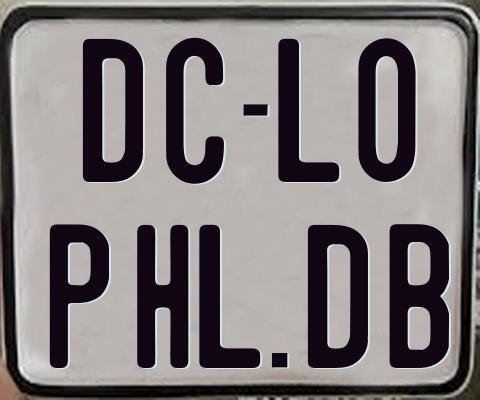0: (358, 35, 420, 183)
B: (387, 223, 451, 373)
C: (163, 36, 227, 187)
D: (80, 37, 145, 185), (308, 225, 374, 369)
H: (136, 223, 192, 370)
L: (277, 38, 341, 187), (196, 223, 257, 367)
P: (47, 224, 112, 373)
